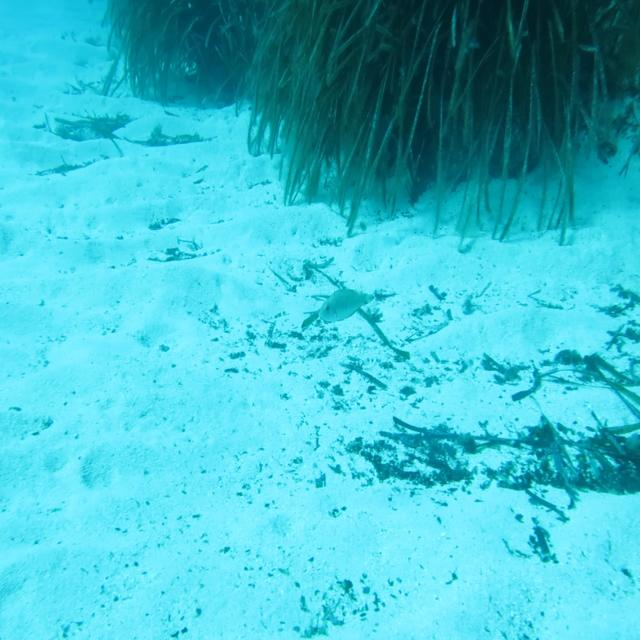BN: (318, 286, 382, 329)
vegetation: (113, 0, 640, 210), (378, 408, 640, 515)
